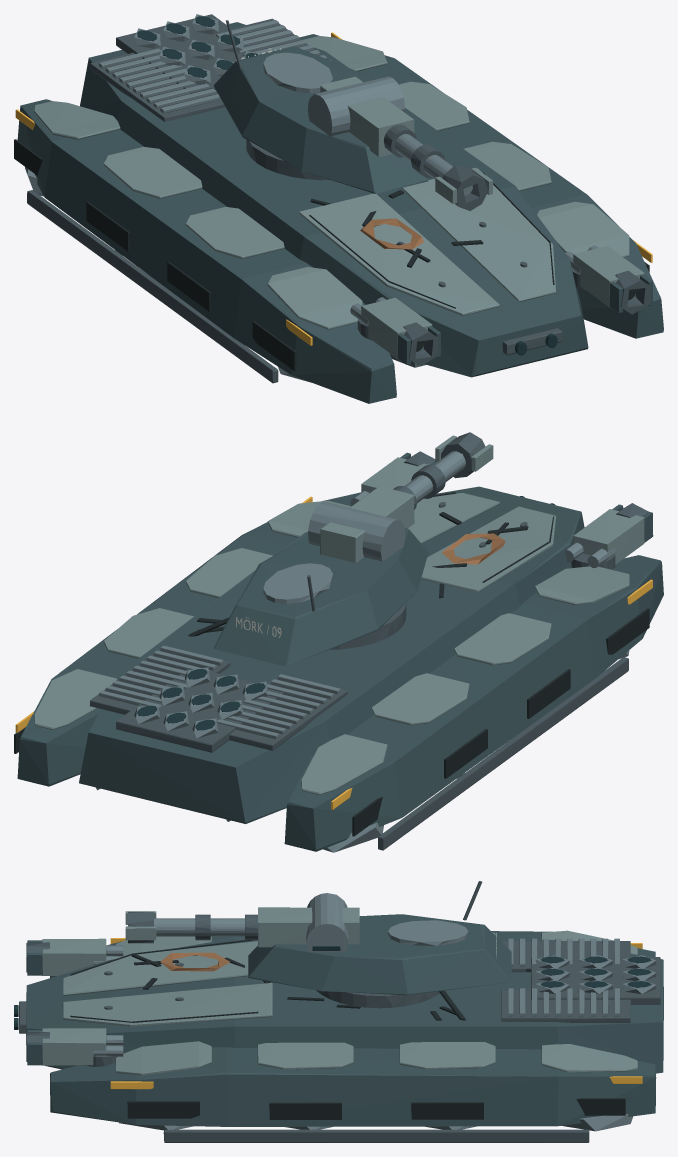
Rendered from mork_d2.glb.
The picture shows the model from 3 angles, top to bottom: view 1: azimuth 30°, elevation 25°; view 2: azimuth 150°, elevation 25°; view 3: azimuth 270°, elevation 25°; orthographic projection. The views are drawn at different scales.
Parts seen in each view (by area): view 1: Low armored main hull.002, Armored hover nacelle.004, Swept glacis armor.004, Tapered nacelle shield.016, Lean turret wedge.002, Tapered nacelle shield.020, Armored hover nacelle.005, Engine heat exchanger.004, Engine cooling louver.040, Ground contact skid.008, Lift vent recess.016, Armored cannon breech.002 (+12 smaller); view 2: Low armored main hull.002, Armored hover nacelle.004, Lean turret wedge.002, Tapered nacelle shield.016, Tapered nacelle shield.020, Armored hover nacelle.005, Swept glacis armor.004, Engine cooling louver.040, Engine heat exchanger.004, Ground contact skid.008, Armored cannon breech.002, Lift vent recess.016 (+11 smaller); view 3: Armored hover nacelle.005, Low armored main hull.002, Lean turret wedge.002, Swept glacis armor.004, Tapered nacelle shield.020, Engine heat exchanger.004, Ground contact skid.010, Lift vent recess.020, Engine cooling louver.040, Armored cannon breech.002, Low plasma projector.005, Gun trunnion.002 (+15 smaller).
Boxes of the visible parts, <box> form: Low armored main hull.002: <box>80,22,588,377</box>; Armored hover nacelle.004: <box>17,99,396,403</box>; Swept glacis armor.004: <box>299,168,555,315</box>; Tapered nacelle shield.016: <box>34,101,362,329</box>; Lean turret wedge.002: <box>213,46,428,193</box>; Tapered nacelle shield.020: <box>303,36,629,257</box>; Armored hover nacelle.005: <box>299,34,663,338</box>; Engine heat exchanger.004: <box>89,14,562,355</box>; Engine cooling louver.040: <box>99,20,331,113</box>; Ground contact skid.008: <box>27,190,278,383</box>; Lift vent recess.016: <box>14,139,296,371</box>; Armored cannon breech.002: <box>320,76,493,203</box>; Low armored main hull.002: <box>79,486,584,823</box>; Armored hover nacelle.004: <box>284,555,663,851</box>; Lean turret wedge.002: <box>213,528,428,666</box>; Tapered nacelle shield.016: <box>301,566,629,795</box>; Tapered nacelle shield.020: <box>34,500,350,729</box>; Armored hover nacelle.005: <box>17,492,360,786</box>; Swept glacis armor.004: <box>408,493,556,592</box>; Engine cooling louver.040: <box>99,645,340,739</box>; Engine heat exchanger.004: <box>89,502,527,752</box>; Ground contact skid.008: <box>378,657,628,850</box>; Armored cannon breech.002: <box>320,435,493,562</box>; Lift vent recess.016: <box>352,608,649,836</box>; Armored hover nacelle.005: <box>50,1047,656,1126</box>; Low armored main hull.002: <box>26,937,663,1073</box>; Lean turret wedge.002: <box>248,914,511,995</box>; Swept glacis armor.004: <box>62,941,272,1026</box>; Tapered nacelle shield.020: <box>115,1041,637,1075</box>; Engine heat exchanger.004: <box>19,941,660,1033</box>; Ground contact skid.010: <box>163,1129,589,1142</box>; Lift vent recess.020: <box>127,1098,625,1119</box>; Engine cooling louver.040: <box>507,938,619,1016</box>; Armored cannon breech.002: <box>125,907,359,947</box>; Low plasma projector.005: <box>42,1028,106,1065</box>; Gun trunnion.002: <box>306,893,348,952</box>.
Bounding box in the file's own units: 5.82 × 3.01 × 10.47.
